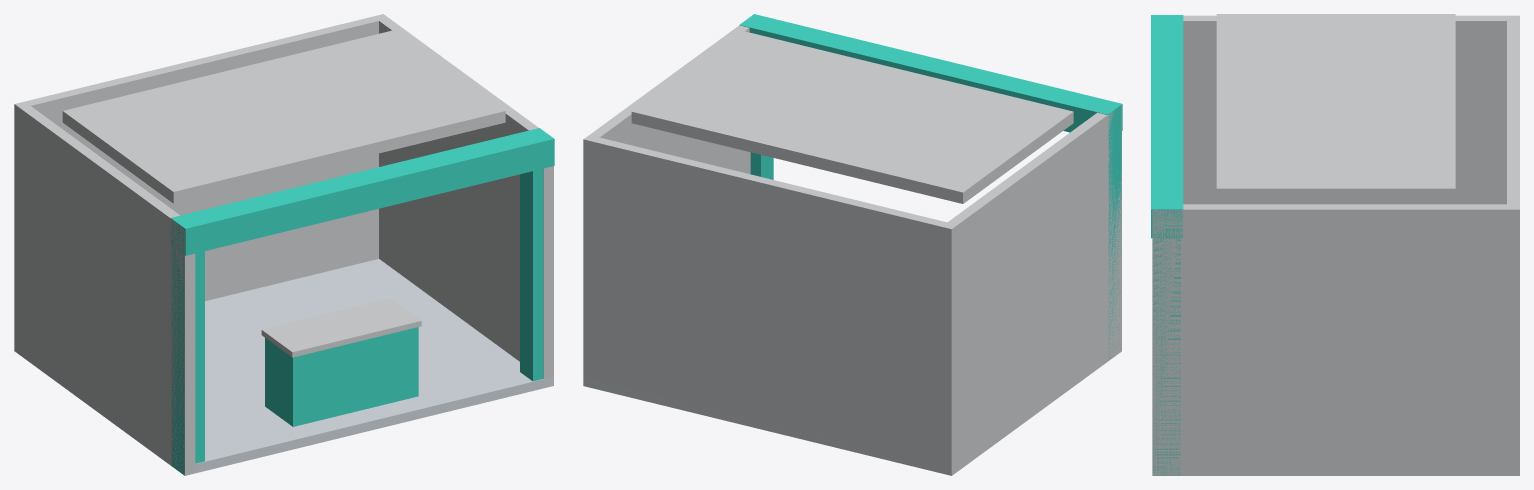
The picture shows the model from 3 angles, left to right: view 1: azimuth 30°, elevation 25°; view 2: azimuth 150°, elevation 25°; view 3: azimuth 270°, elevation 25°; orthographic projection. The views are drawn at different scales.
Visible parts, largest first — view 1: Exhibition Booth Concept; view 2: Exhibition Booth Concept; view 3: Exhibition Booth Concept.
Part boxes in pixels (x1=…): Exhibition Booth Concept: x1=14, y1=14, x2=554, y2=475; Exhibition Booth Concept: x1=583, y1=14, x2=1122, y2=475; Exhibition Booth Concept: x1=1151, y1=14, x2=1519, y2=475.
Size of the model in its own units: 5 by 3.34 by 4.02.
